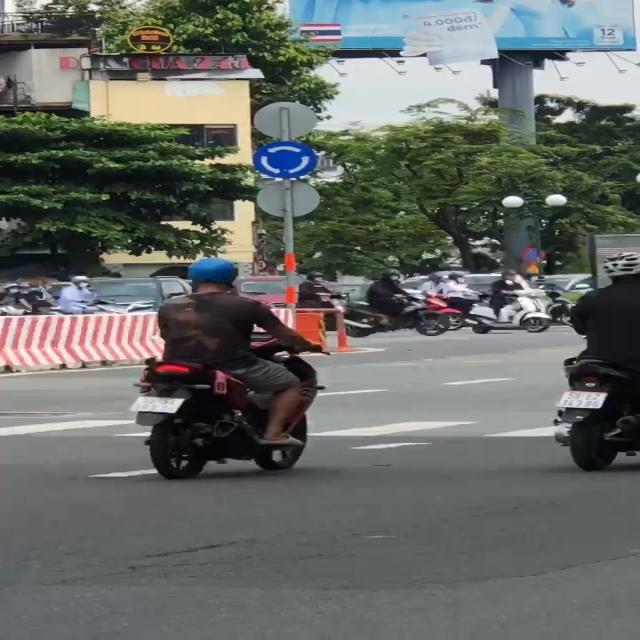Bien bao noi giao nhau chay theo vong xuyen: (249, 140, 324, 183)
